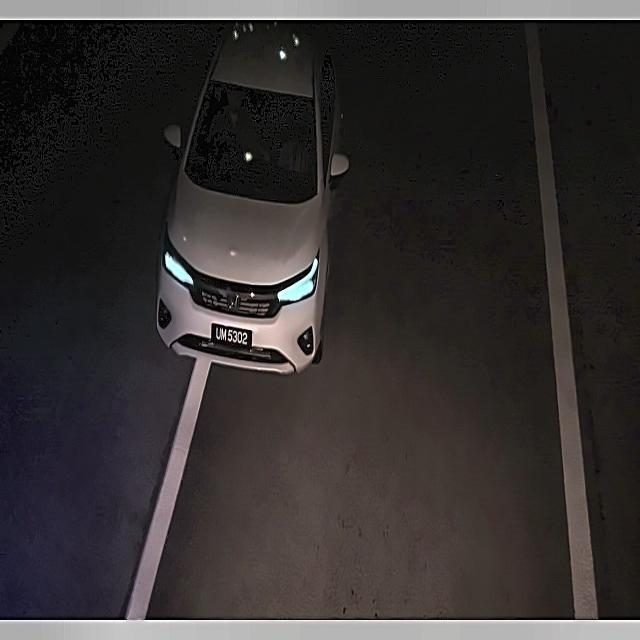car: (206, 320, 254, 355)
